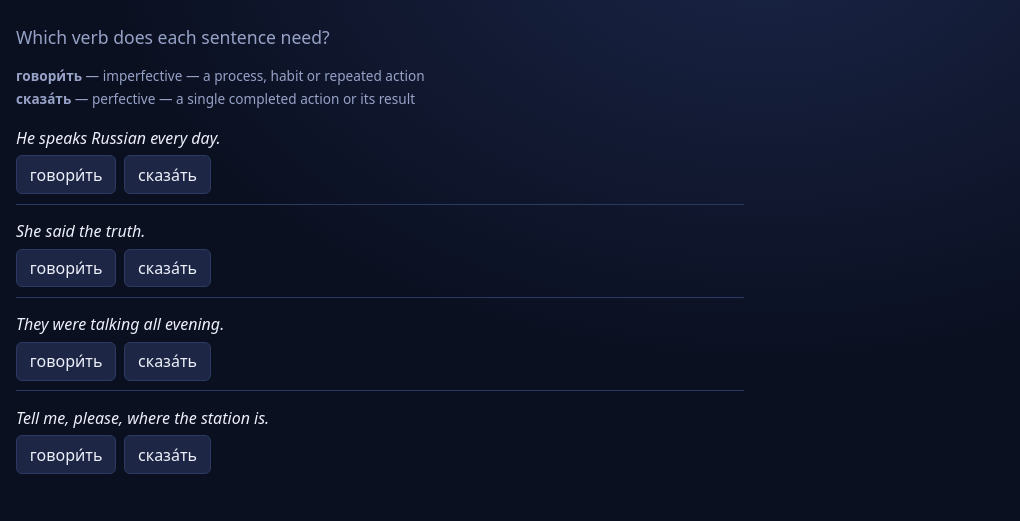
Test: VerbContrastExercise › grades each pick at once, reveals and speaks the Russian sentence
The width and height of the screenshot is (1020, 521).
Click the button "говори́ть" below "He speaks Russian every day." at (66, 175), box [16,155,116,194]
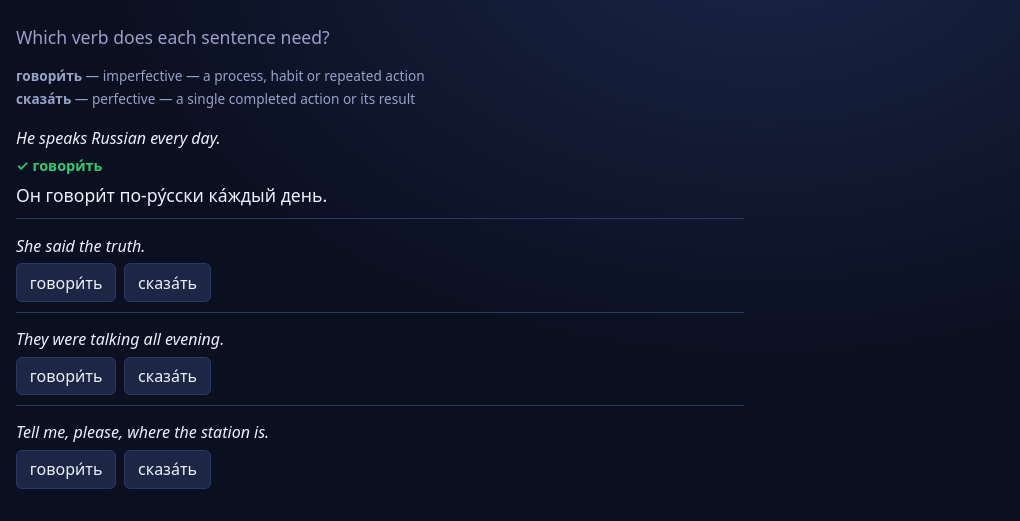
Expected: the text "✓ говори́ть" is shown, [16,156,102,175]
Expected: the list item that starts with "He speaks Russian every day." shows "Он говори́т по-ру́сски ка́ждый день.", [16,183,327,207]
Click the button "говори́ть" below "She said the truth." at (66, 283), box [16,263,116,302]
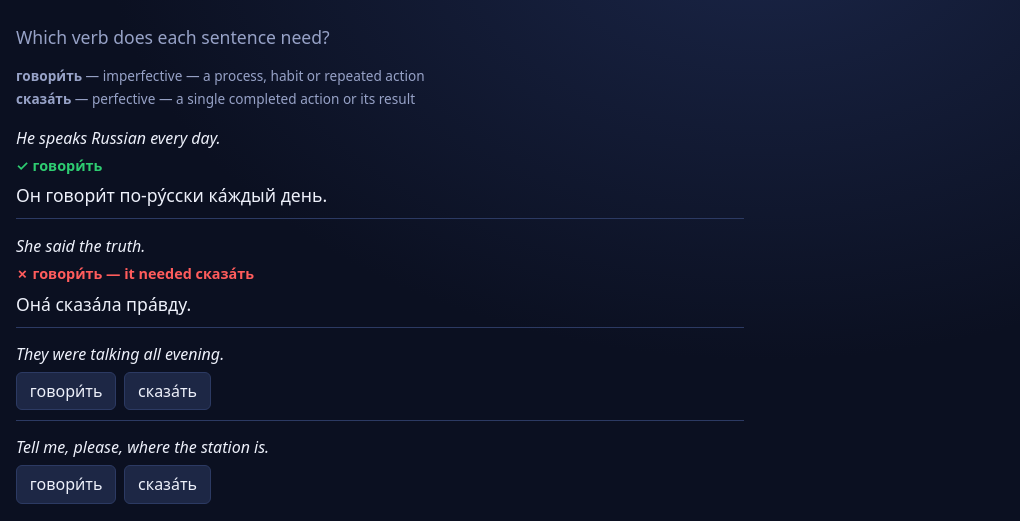
Expected: the list item that starts with "She said the truth." shows "сказа́ть", [196,264,254,283]
Expected: the element with class "bad" is shown, [16,264,254,283]
Expected: the list item that starts with "She said the truth." shows "it needed", [16,264,196,283]
